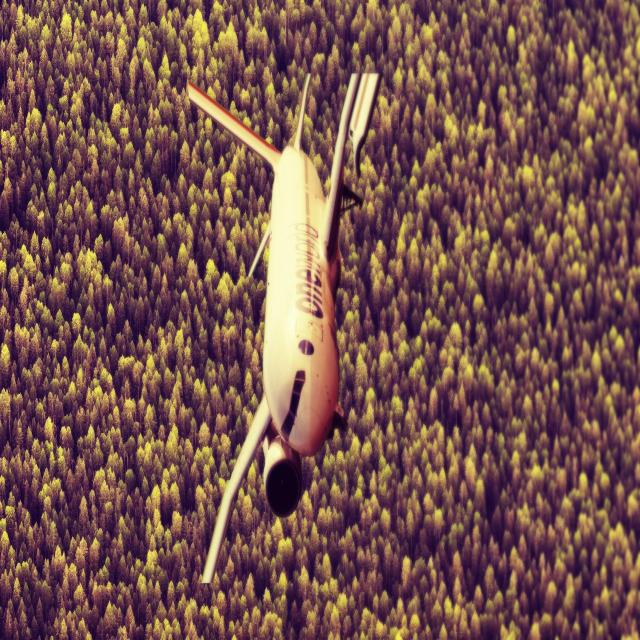airplane: (186, 69, 382, 584)
